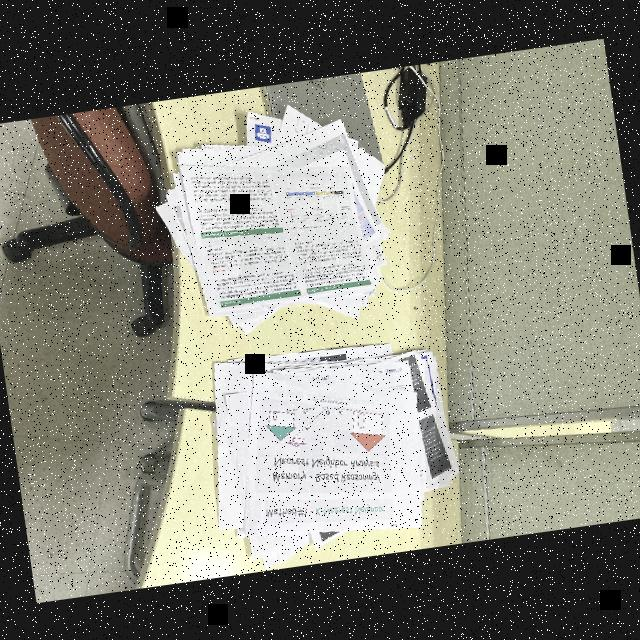reuseable_paper: (138, 91, 412, 352), (188, 321, 472, 567)
